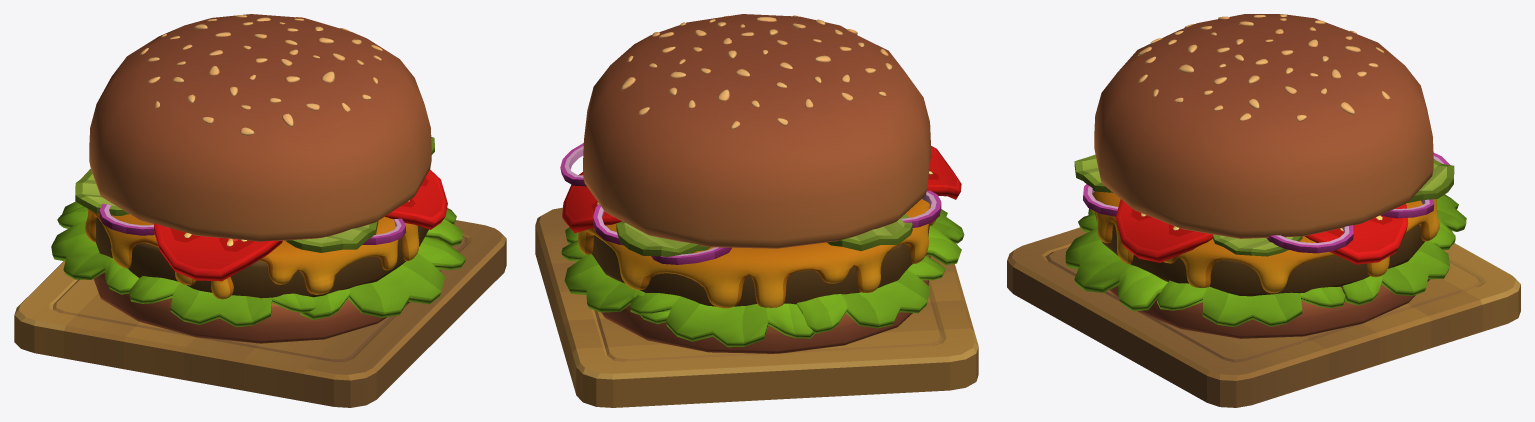
File: pasta-db-real.glb
3 renders of one model, left to right at view 1: azimuth 30°, elevation 25°; view 2: azimuth 150°, elevation 25°; view 3: azimuth 270°, elevation 25°, orthographic. The views are drawn at different scales.
Parts seen in each view (by area): view 1: Cube.085, Plane.124; view 2: Cube.085, Plane.124; view 3: Cube.085, Plane.124.
Part boxes in pixels (box(x1,y1,x2,y2)): Cube.085: box(51, 14, 465, 343); Plane.124: box(14, 220, 506, 407); Cube.085: box(560, 14, 964, 353); Plane.124: box(535, 207, 978, 407); Cube.085: box(1065, 14, 1466, 338); Plane.124: box(1007, 227, 1520, 407).
Bounding box in the file's own units: 11.96 × 6.54 × 11.97.
1 material, 1 textured.
